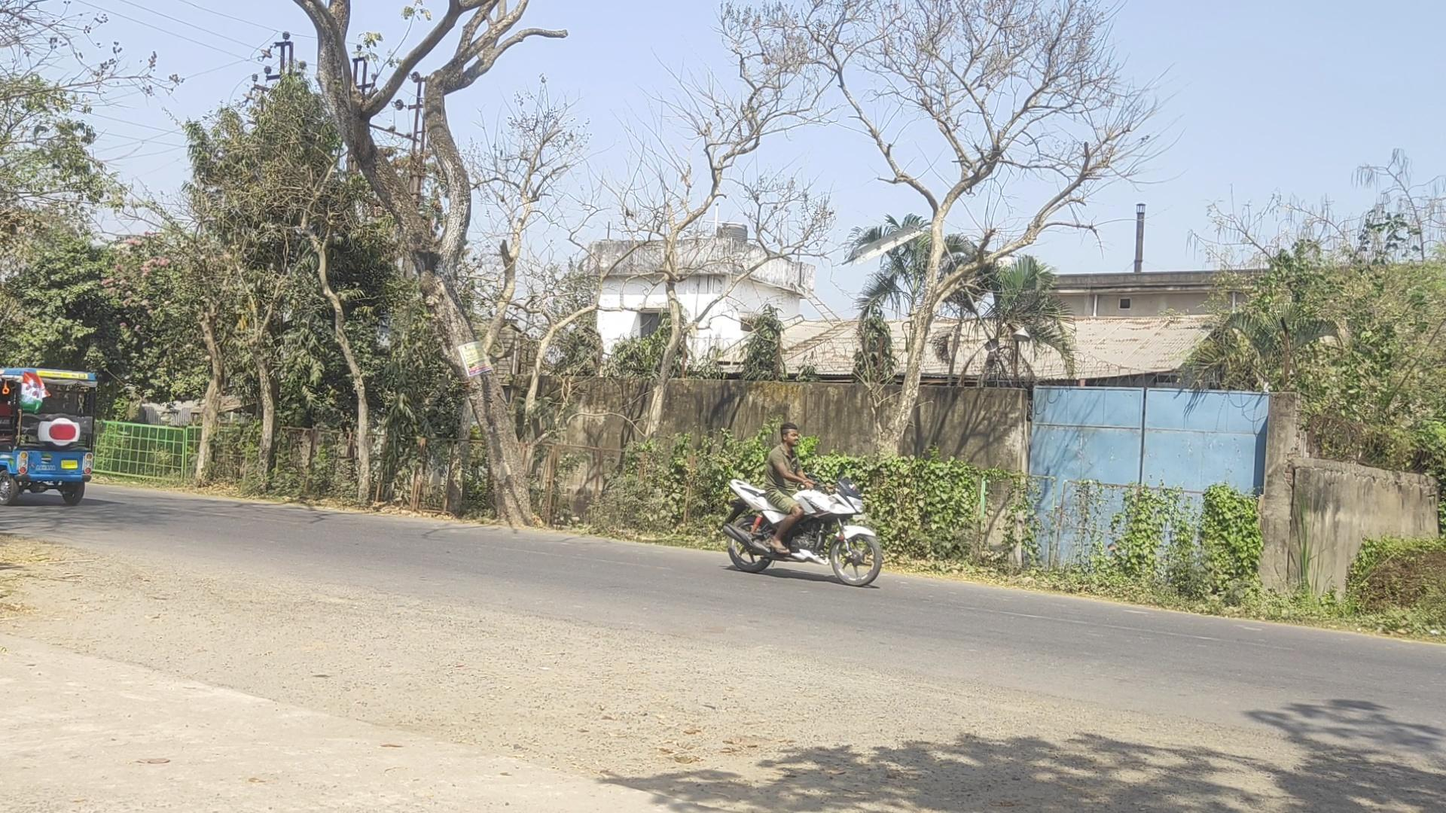Auto: (1, 367, 98, 507)
bike: (720, 422, 882, 586)
